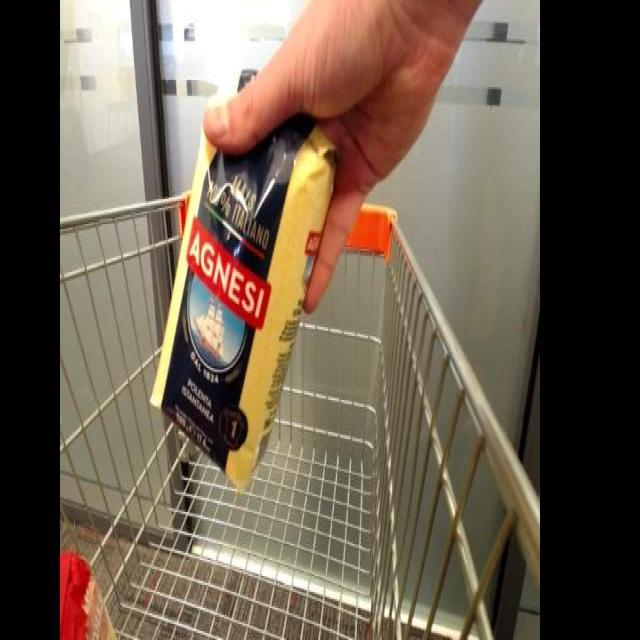Agnesi Polenta: (144, 68, 354, 496)
